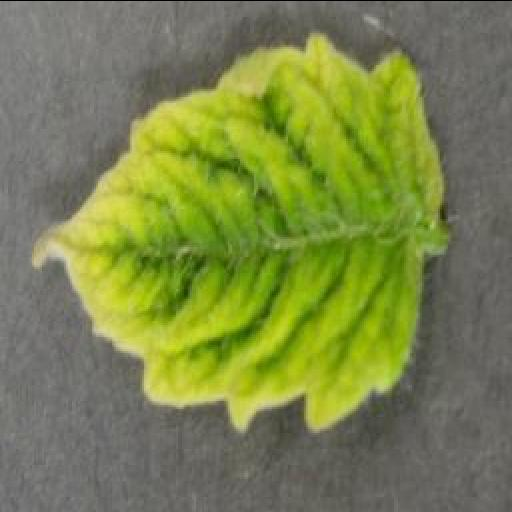disease_tomato: (32, 31, 446, 433)
